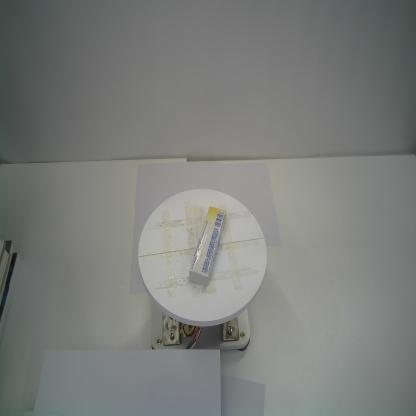Candy: (189, 205, 226, 286)
